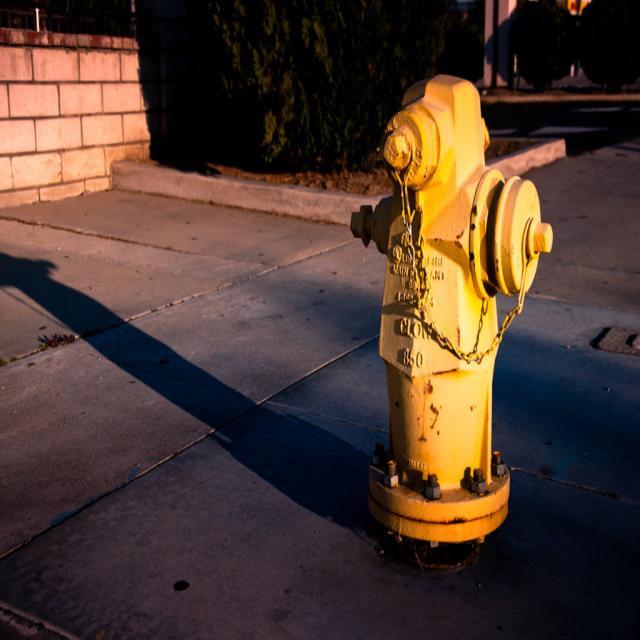fire_hydrant: (349, 67, 555, 554)
